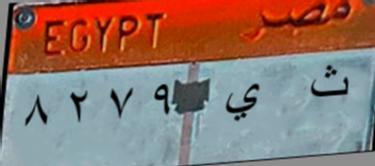2: (60, 88, 94, 132)
7: (104, 84, 136, 126)
8: (22, 90, 51, 134)
9: (149, 79, 175, 122)
thaa: (305, 65, 352, 108)
yaa: (222, 80, 268, 126)
